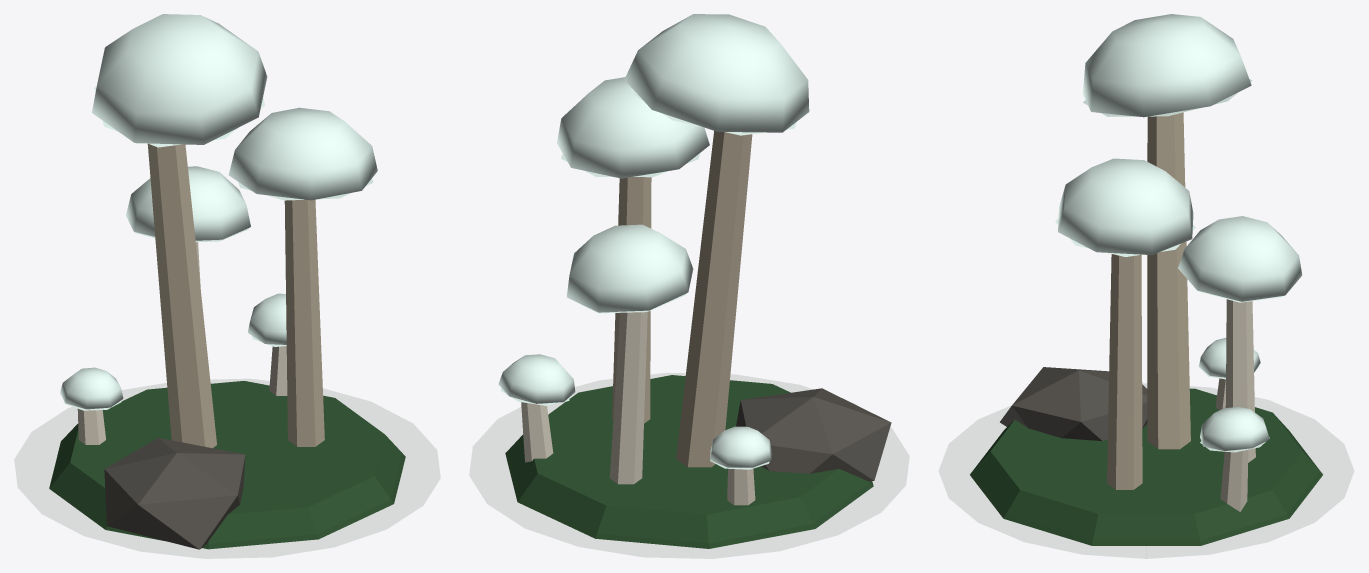
File: glow_mushroom_tall.glb
3 renders of one model, left to right at view 1: azimuth 30°, elevation 25°; view 2: azimuth 150°, elevation 25°; view 3: azimuth 270°, elevation 25°, orthographic. The views are drawn at different scales.
Parts seen in each view (by area): view 1: glow_mushroom_tall; view 2: glow_mushroom_tall; view 3: glow_mushroom_tall.
Part boxes in pixels (box(x1,y1,x2,y2)): glow_mushroom_tall: box(49, 14, 405, 549); glow_mushroom_tall: box(498, 14, 891, 548); glow_mushroom_tall: box(969, 14, 1323, 558).
Size of the model in its own units: 0.8 by 0.966 by 0.8.
